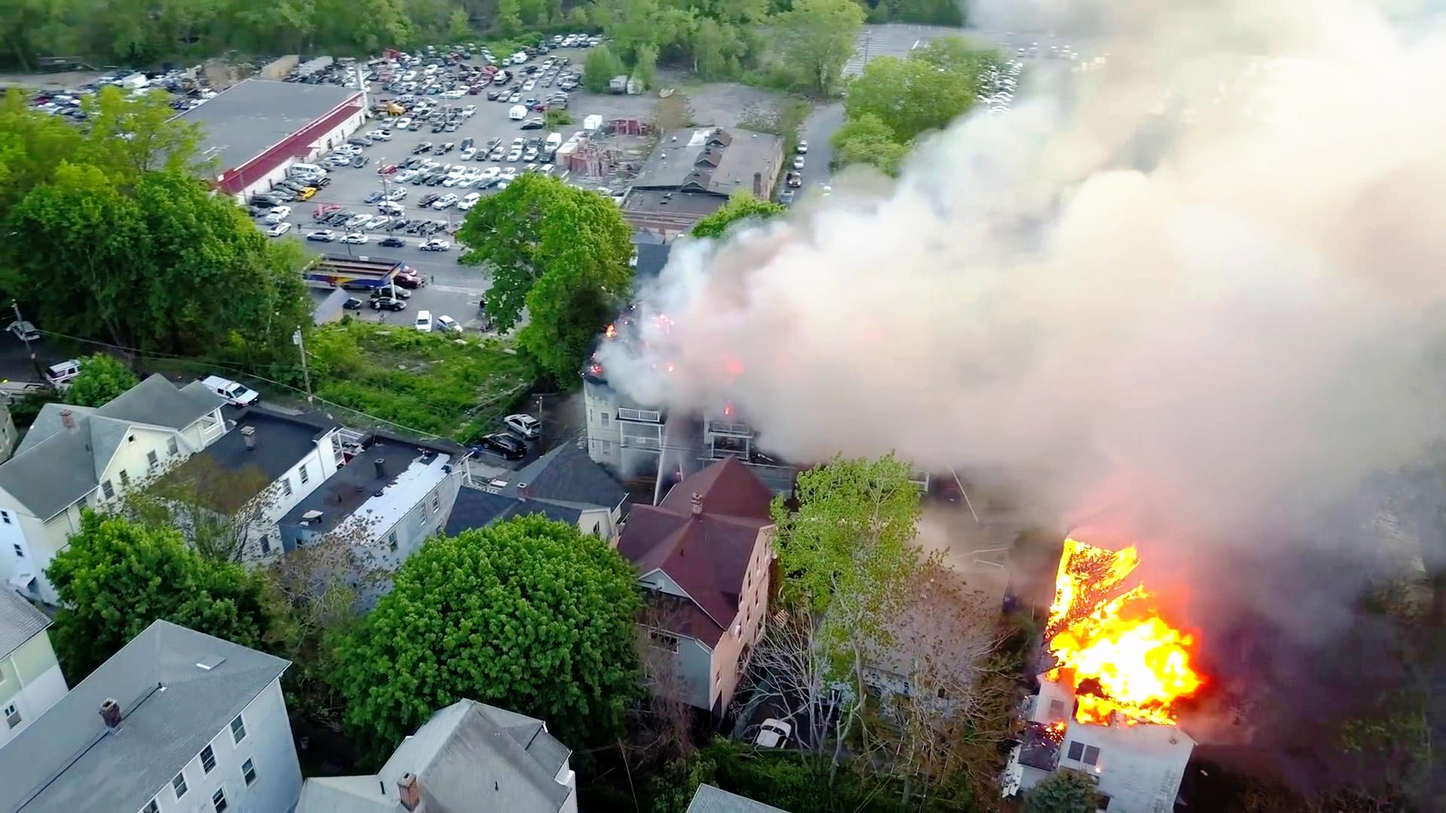fire: (1046, 532, 1213, 736)
smoke: (691, 253, 1446, 470)
